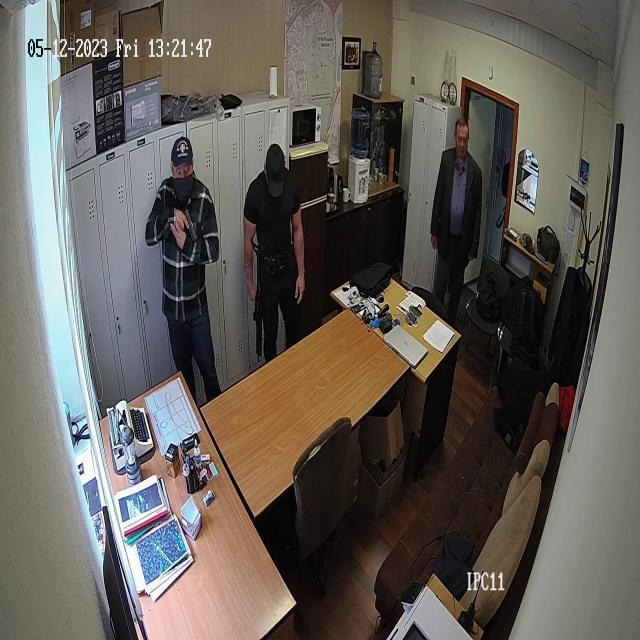pistol: (250, 230, 270, 360), (180, 200, 198, 246)
